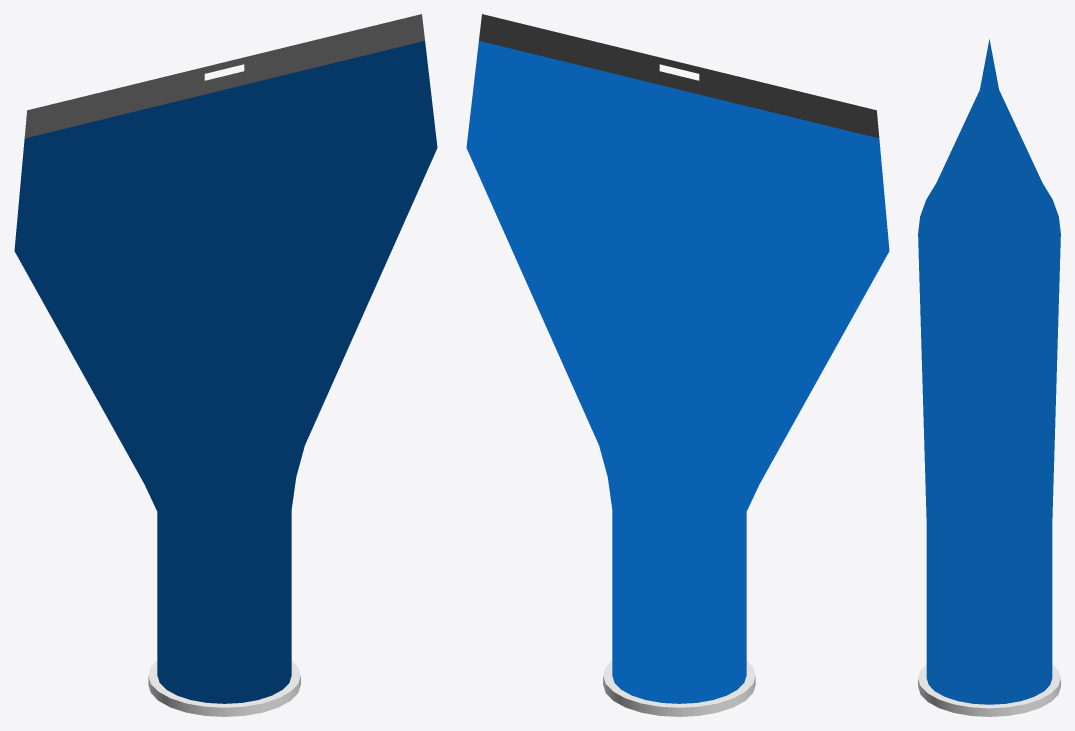
Rendered from Bolsa1KG con Relleno.fbx.
3 renders of one model, left to right at view 1: azimuth 30°, elevation 25°; view 2: azimuth 150°, elevation 25°; view 3: azimuth 270°, elevation 25°, orthographic. The views are drawn at different scales.
Parts seen in each view (by area): view 1: BolsaFlexible, PlasticoDuro, AnilloInferior; view 2: BolsaFlexible, PlasticoDuro, AnilloInferior; view 3: BolsaFlexible, AnilloInferior.
Part boxes in pixels (<box>): BolsaFlexible: <box>14,41,437,703</box>; PlasticoDuro: <box>24,14,424,138</box>; AnilloInferior: <box>148,661,300,716</box>; BolsaFlexible: <box>466,41,889,703</box>; PlasticoDuro: <box>479,14,879,138</box>; AnilloInferior: <box>603,661,755,716</box>; BolsaFlexible: <box>918,39,1060,704</box>; AnilloInferior: <box>918,664,1060,716</box>.
Bounding box in the file's own units: 32 × 45 × 10.
